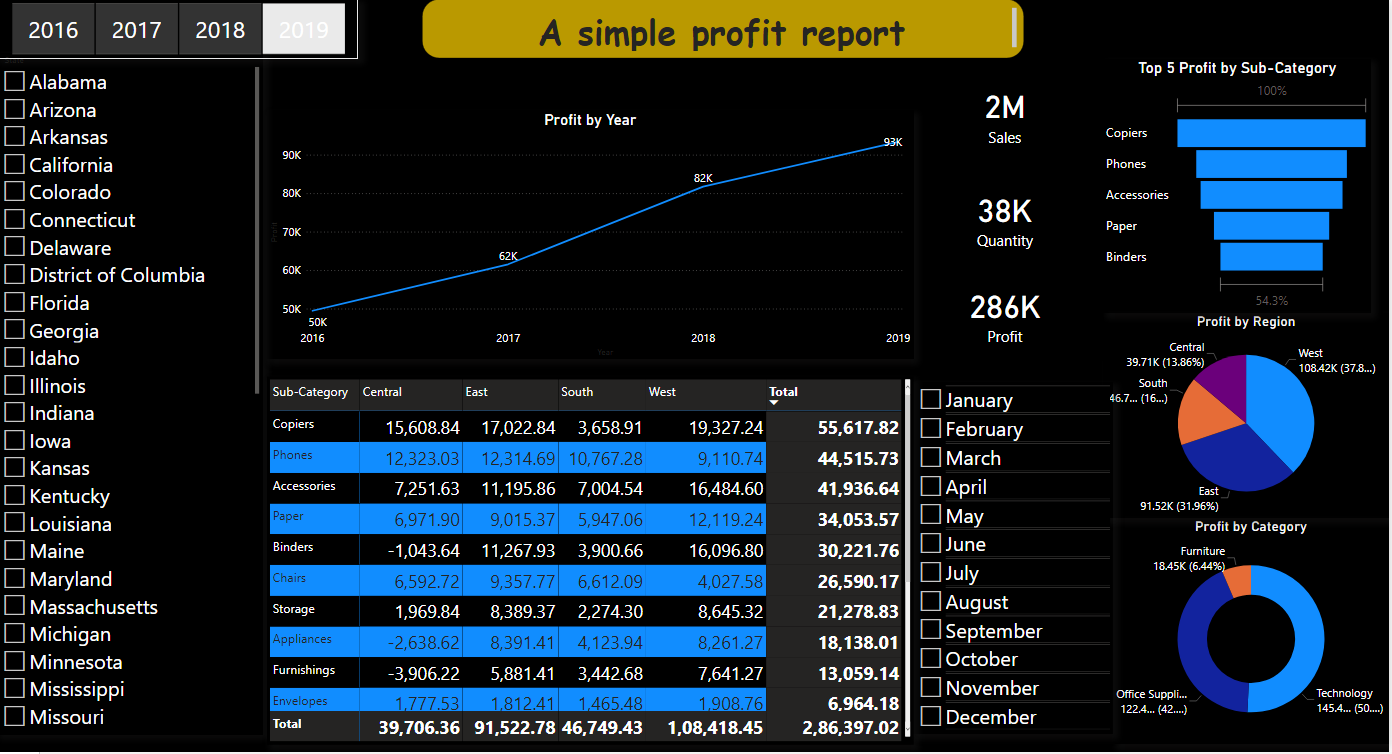

This screenshot's page, from the dashboard's own definition file:
{"tool":"powerbi","page":{"name":"superstore report","canvas":[2400,1300],"ordinal":0},"visuals":[{"type":"textbox","box":[733.1,0,1038.5,102.5],"z":0},{"type":"donutChart","fields":{"Y":["Sum(Orders.Profit)"],"Category":["Orders.Category"]},"box":[1924.4,894.5,475.6,390.5],"z":1000},{"type":"pieChart","fields":{"Y":["Sum(Orders.Profit)"],"Category":["Orders.Region"]},"box":[1906.9,541.1,493.1,353.5],"z":2000},{"type":"funnel","title":"Top 5 Profit by Sub-Category","fields":{"Category":["Orders.Sub-Category"],"Y":["Sum(Orders.Profit)"]},"box":[1906.9,102.5,462.5,438.5],"z":3000},{"type":"slicer","fields":{"Values":["Orders.State"]},"box":[0,91.6,458.2,1176],"z":4000},{"type":"pivotTable","fields":{"Values":["Sum(Orders.Profit)"],"Rows":["Orders.Sub-Category"],"Columns":["Orders.Region"]},"box":[464.7,650.2,1114.9,634.9],"z":5000},{"type":"card","fields":{"Values":["Sum(Orders.Sales)"]},"box":[1568.7,102.5,338.2,187.6],"z":6000},{"type":"card","fields":{"Values":["Sum(Orders.Quantity)"]},"box":[1568.7,290.2,338.2,168],"z":7000},{"type":"card","fields":{"Values":["Sum(Orders.Profit)"]},"box":[1568.7,458.2,338.2,163.6],"z":8000},{"type":"lineChart","fields":{"Y":["Sum(Orders.Profit)"],"Category":["Orders.Order Date.Variation.Date Hierarchy.Year","Orders.Order Date.Variation.Date Hierarchy.Quarter","Orders.Order Date.Variation.Date Hierarchy.Month","Orders.Order Date.Variation.Date Hierarchy.Day"]},"box":[464.7,192,1114.9,429.8],"z":9000},{"type":"slicer","fields":{"Values":["Orders.Order Date.Variation.Date Hierarchy.Year"]},"box":[0,0,624,102.5],"z":10000},{"type":"slicer","fields":{"Values":["Orders.Order Date.Variation.Date Hierarchy.Month"]},"box":[1579.6,658.9,344.7,608.7],"z":11000}]}

Visuals, with their boxes in screenshot pixels (x1, y1, x2, y2), scaled from the page's 2400x1300 canvas onto the 1392x754 screenshot:
textbox: <bbox>425, 0, 1028, 59</bbox>
donutChart - Sum(Orders.Profit) x Orders.Category: <bbox>1116, 519, 1391, 745</bbox>
pieChart - Sum(Orders.Profit) x Orders.Region: <bbox>1106, 314, 1391, 519</bbox>
"Top 5 Profit by Sub-Category" funnel: <bbox>1106, 59, 1374, 314</bbox>
slicer - Orders.State: <bbox>0, 53, 266, 735</bbox>
pivotTable - Sum(Orders.Profit) x Orders.Sub-Category: <bbox>270, 377, 916, 745</bbox>
card - Sum(Orders.Sales): <bbox>910, 59, 1106, 168</bbox>
card - Sum(Orders.Quantity): <bbox>910, 168, 1106, 266</bbox>
card - Sum(Orders.Profit): <bbox>910, 266, 1106, 361</bbox>
lineChart - Sum(Orders.Profit) x Orders.Order Date.Variation.Date Hierarchy.Year: <bbox>270, 111, 916, 361</bbox>
slicer - Orders.Order Date.Variation.Date Hierarchy.Year: <bbox>0, 0, 362, 59</bbox>
slicer - Orders.Order Date.Variation.Date Hierarchy.Month: <bbox>916, 382, 1116, 735</bbox>
